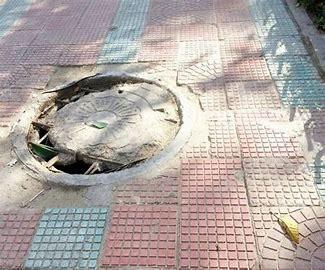wellcover: (20, 71, 183, 183)
